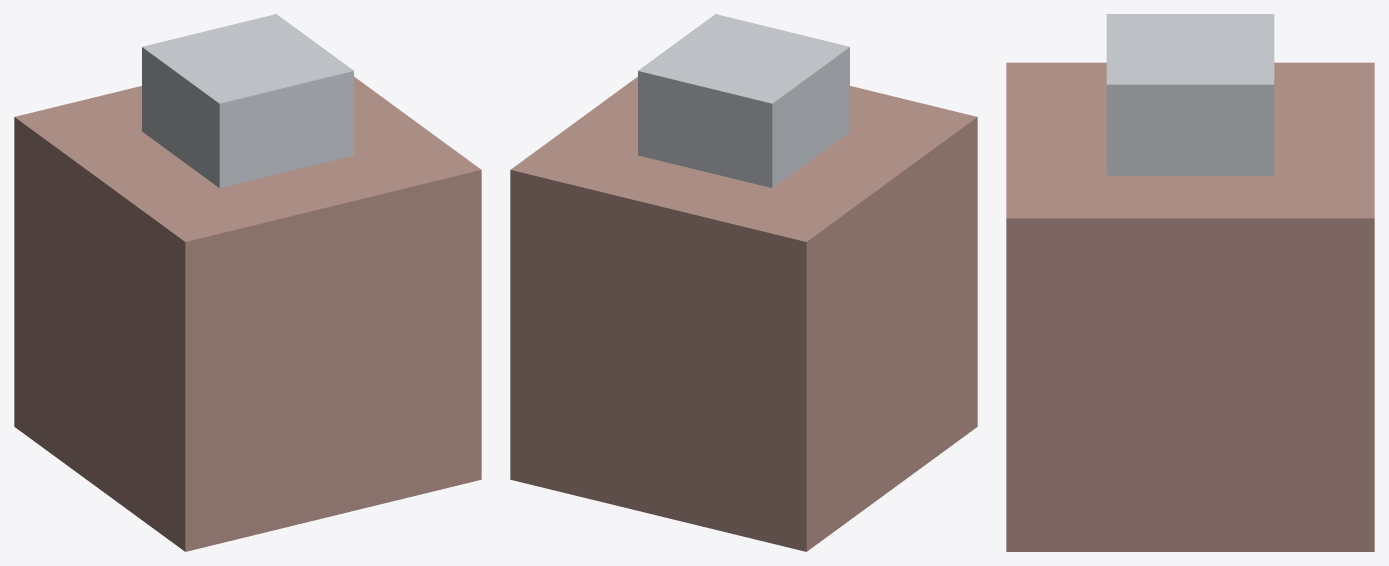
Rendered from prop.glb.
3 views of the same model, side by side, from view 1: azimuth 30°, elevation 25°; view 2: azimuth 150°, elevation 25°; view 3: azimuth 270°, elevation 25° (orthographic). The views are drawn at different scales.
Parts seen in each view (by area): view 1: Cloth, Metal; view 2: Cloth, Metal; view 3: Cloth, Metal.
Part boxes in pixels (left/top/right/bottom): Cloth: left=14, top=76, right=481, bottom=551; Metal: left=142, top=14, right=353, bottom=188; Cloth: left=510, top=76, right=977, bottom=551; Metal: left=638, top=14, right=849, bottom=188; Cloth: left=1006, top=62, right=1374, bottom=551; Metal: left=1106, top=14, right=1274, bottom=175.
Bounding box in the file's own units: 0.22 × 0.28 × 0.22.
